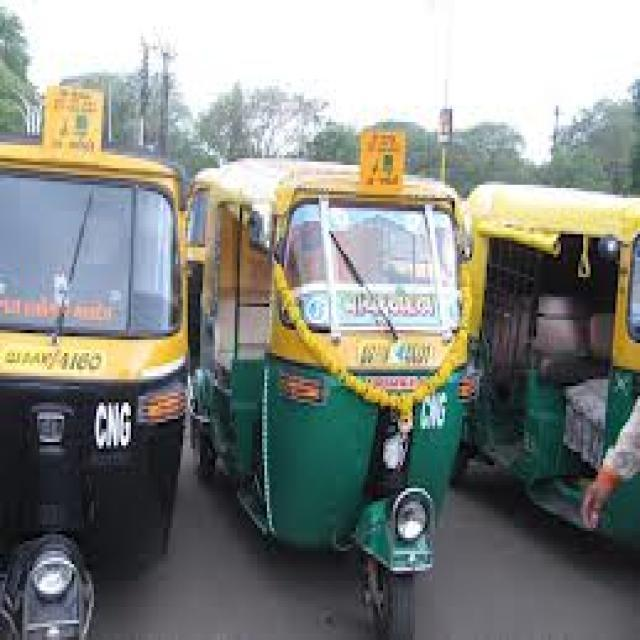auto_front: (188, 145, 478, 634), (3, 66, 198, 639)
